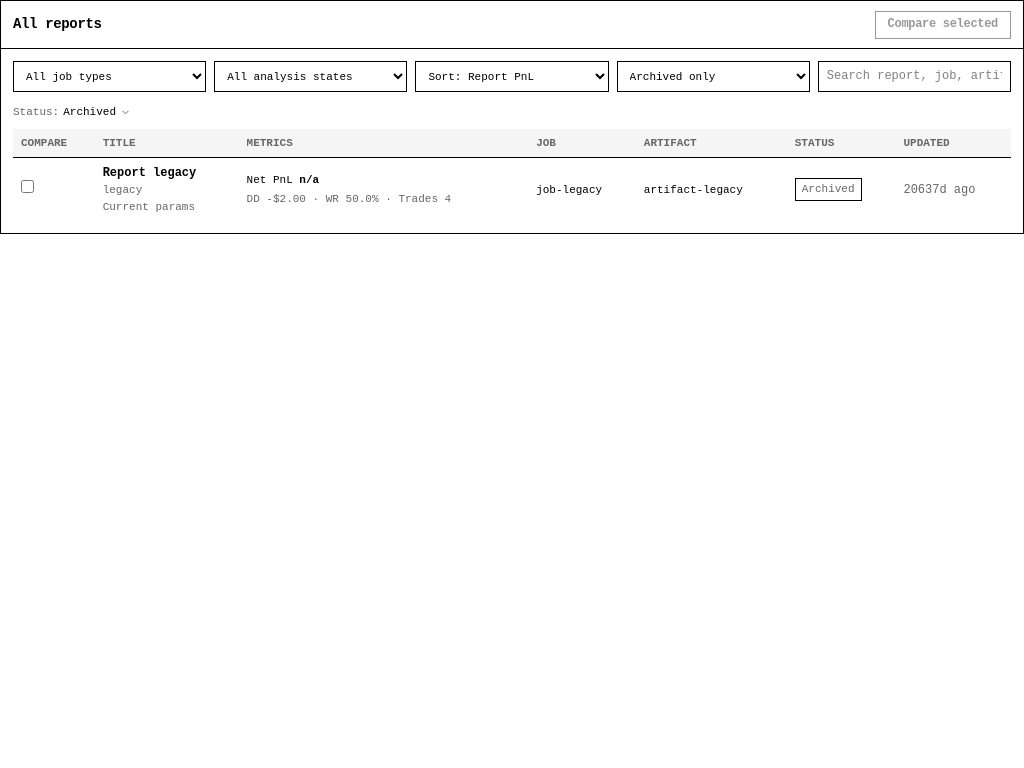
Test: ResearchReportsPage › manual status changes clear retention-specific filtering
What coordinates should you click on to do the following:
click the button with aria-label "report status filter"
I would click on:
 (72, 112)
Its box is [13,104,131,121].
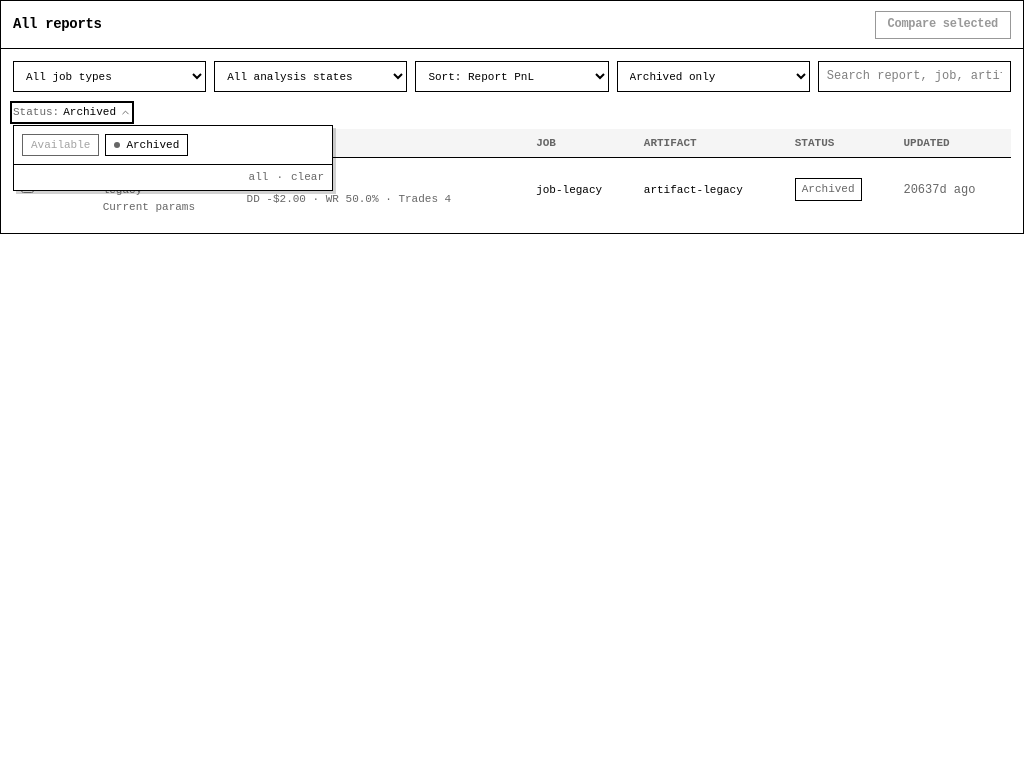
What coordinates should you click on to do the following:
click the button "clear"
I would click on:
 (308, 177)
Its box is [291,169,324,186].
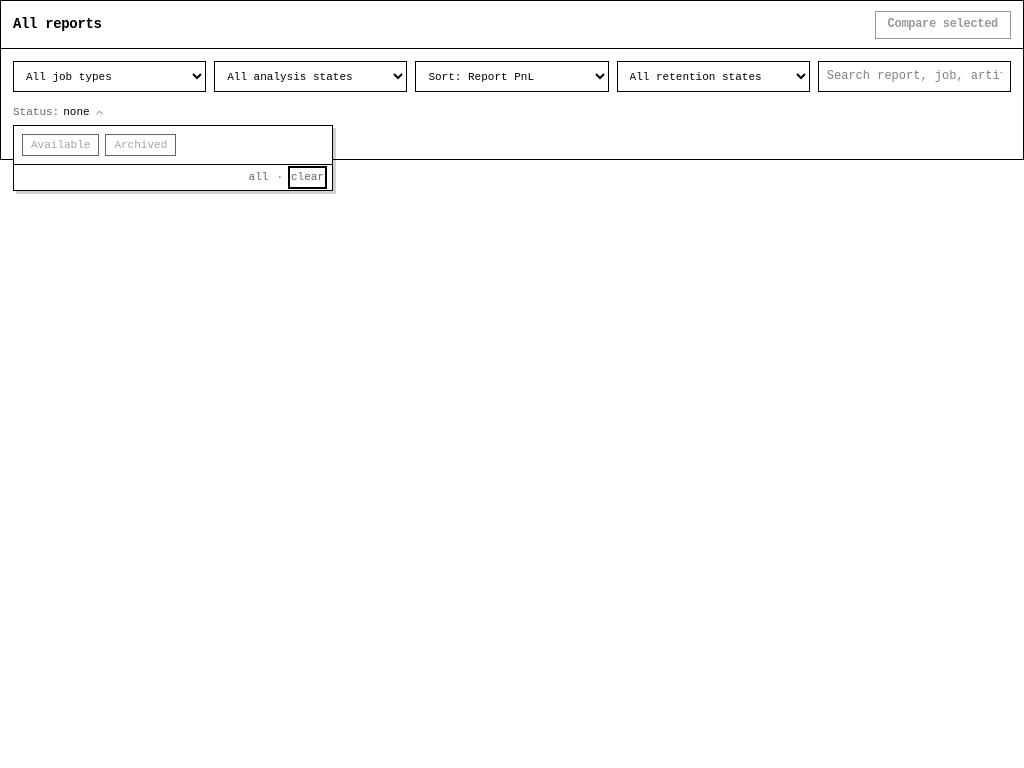
What coordinates should you click on to do the following:
click the button "Available"
I would click on:
 (61, 145)
Its box is [22,134,99,156].
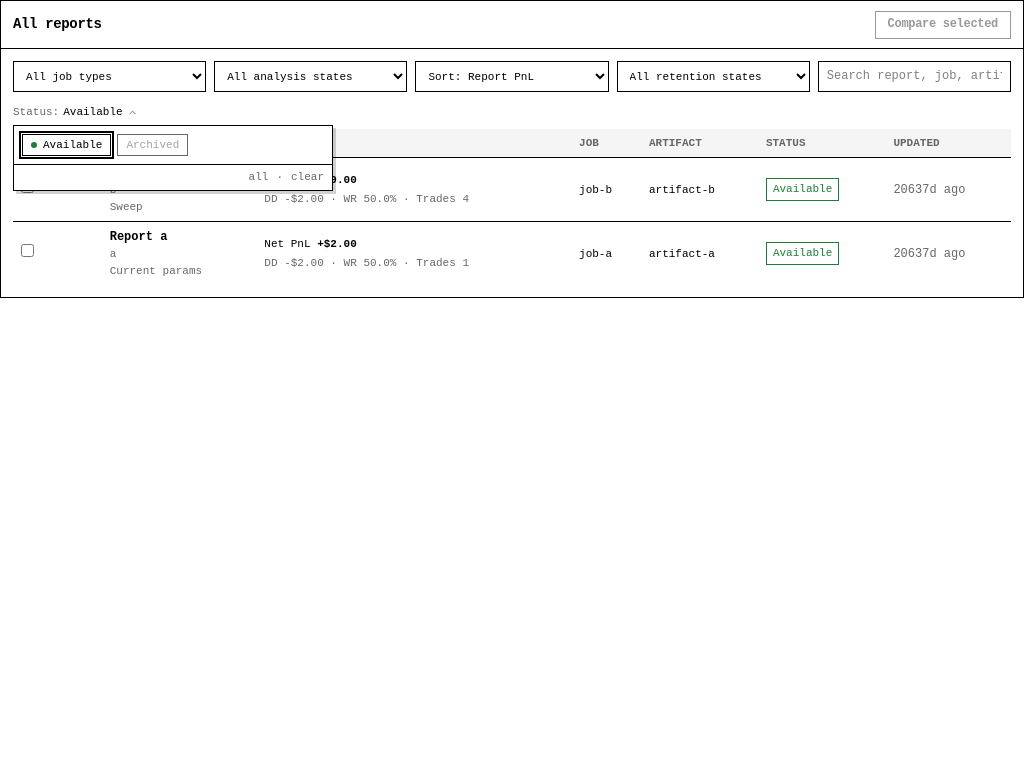
Check: the link "Report legacy" is not shown
Check: the dropdown named "report retention filter" shows "All retention states", box [617,61,810,92]
Check: the link "Report a" is shown, box [110,230,167,244]
